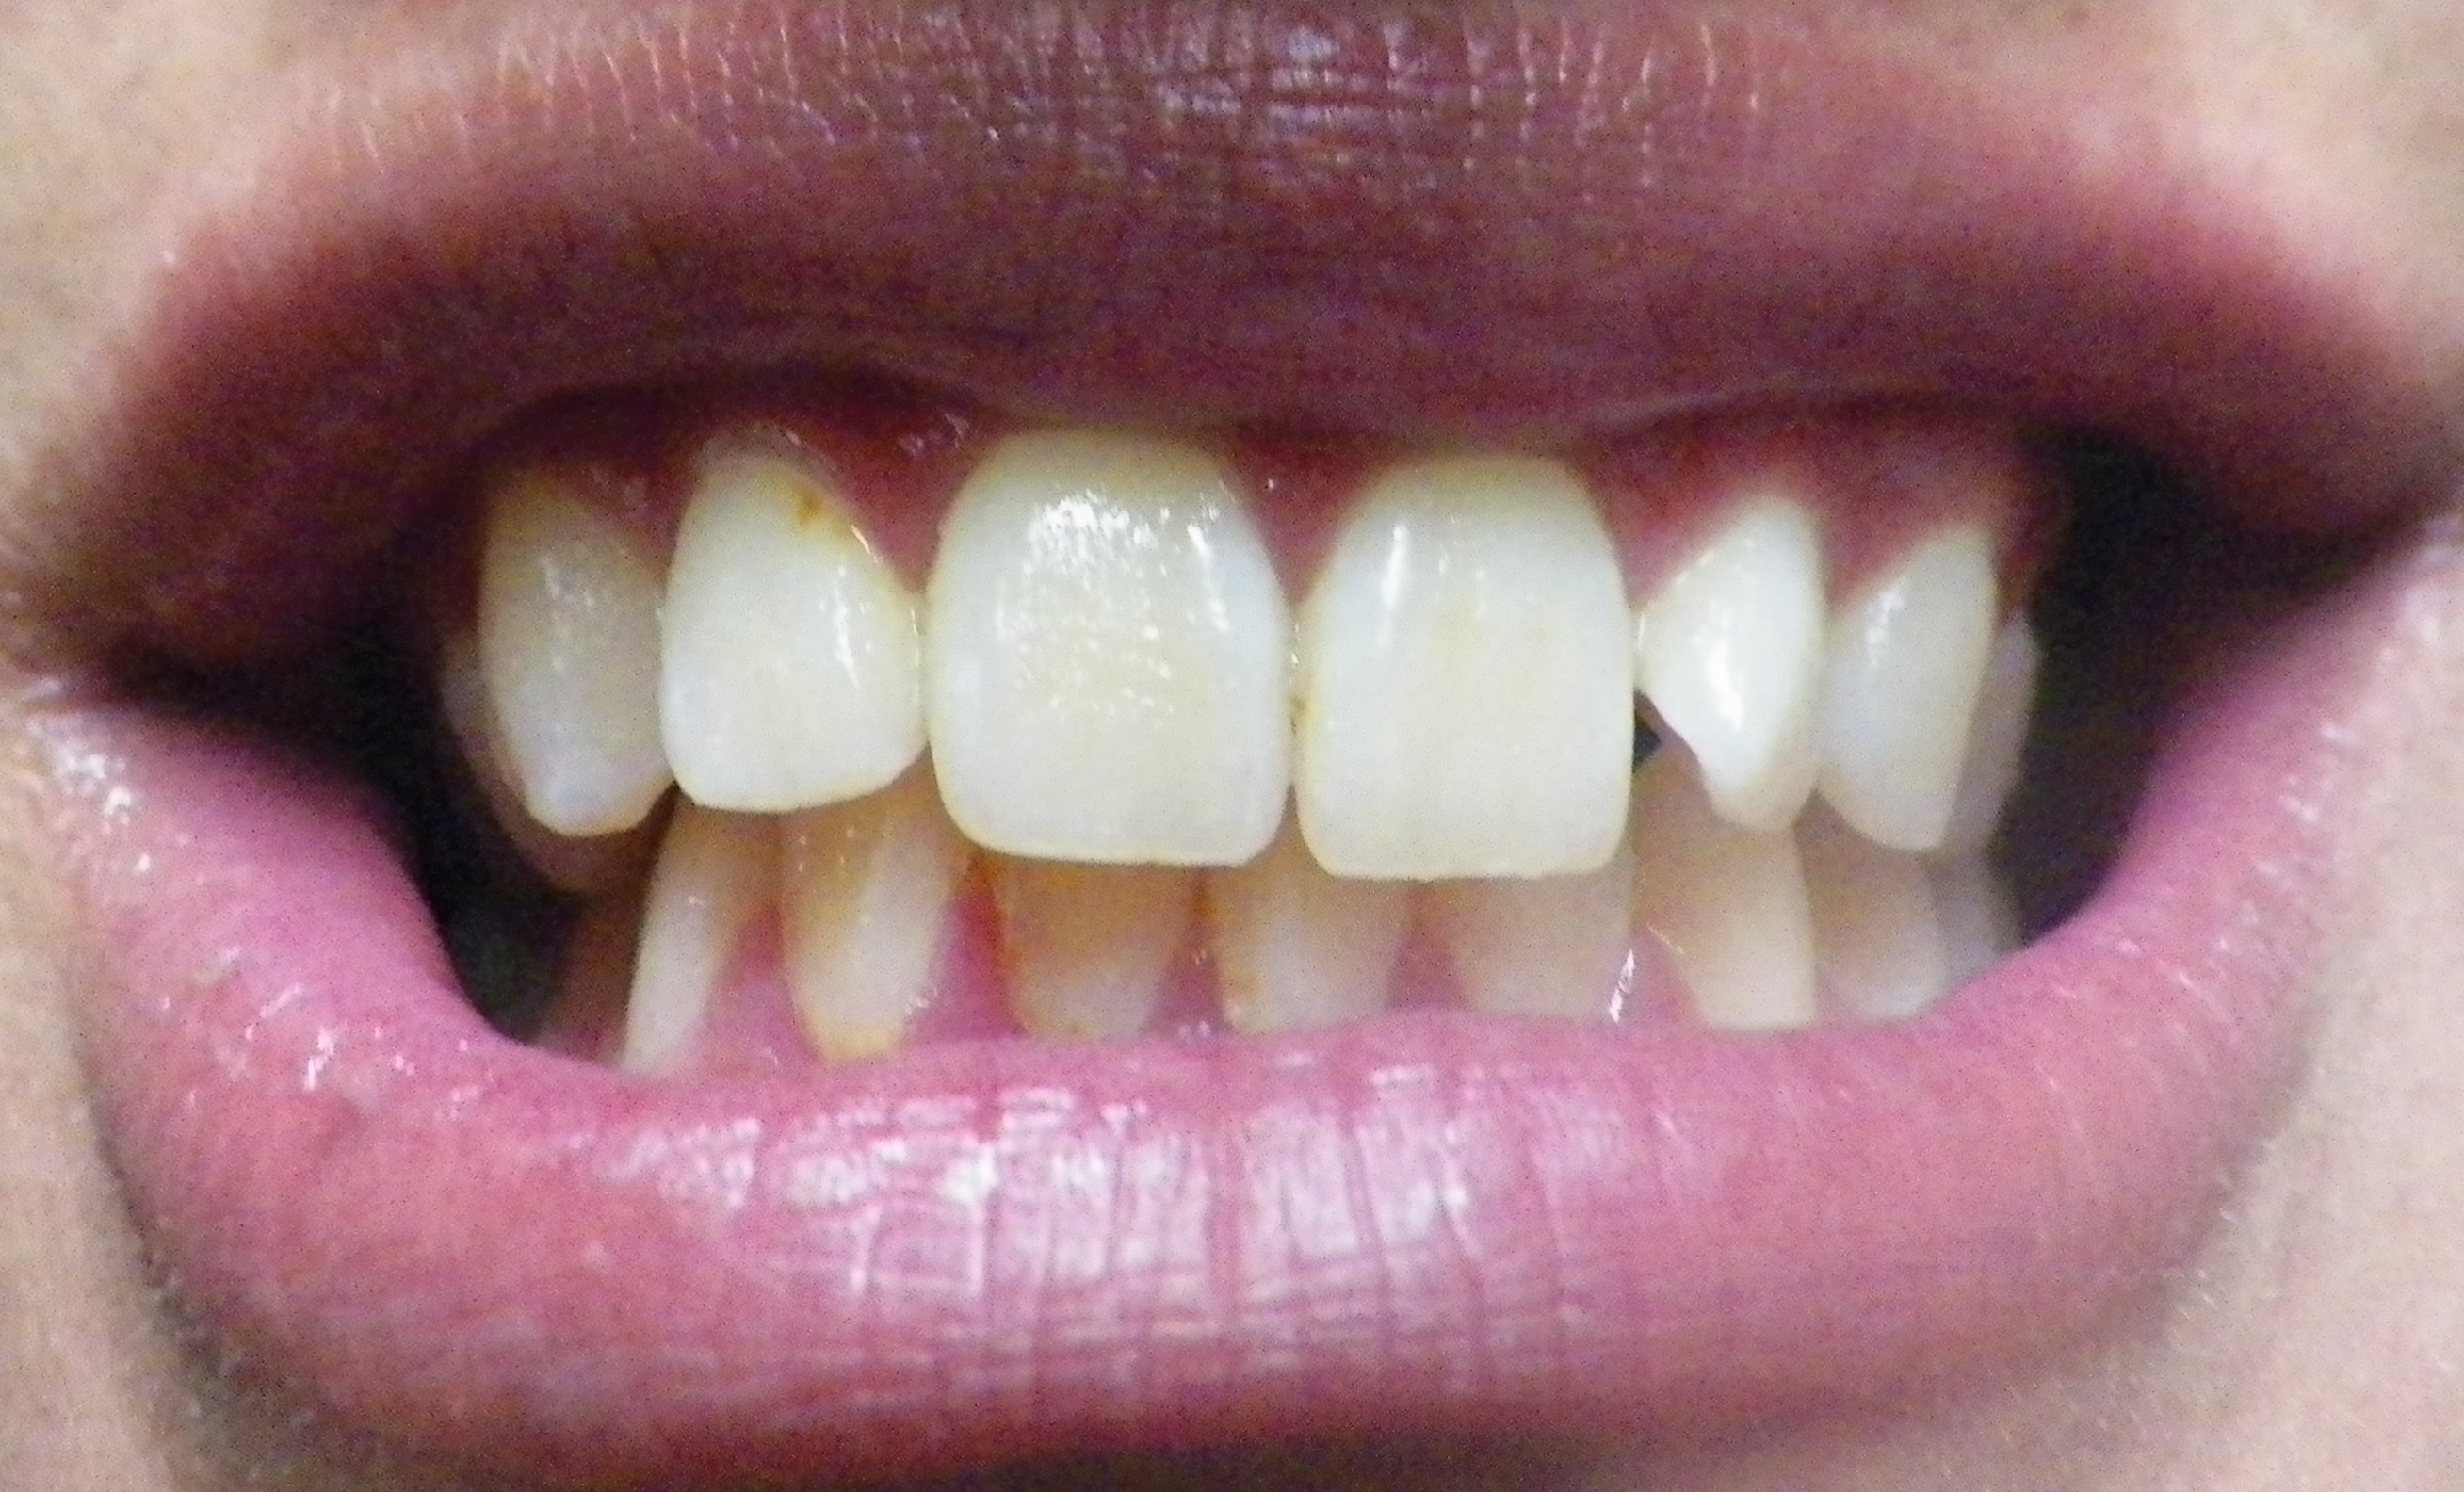boca: (384, 417, 2072, 1047)
